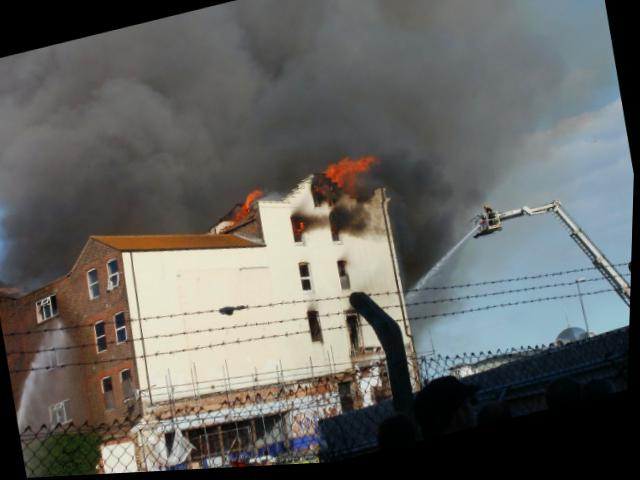fire: (316, 152, 380, 205), (236, 187, 263, 217), (290, 214, 308, 237)
